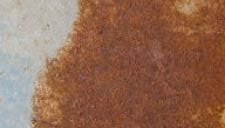Corrosion: (29, 1, 225, 128)
